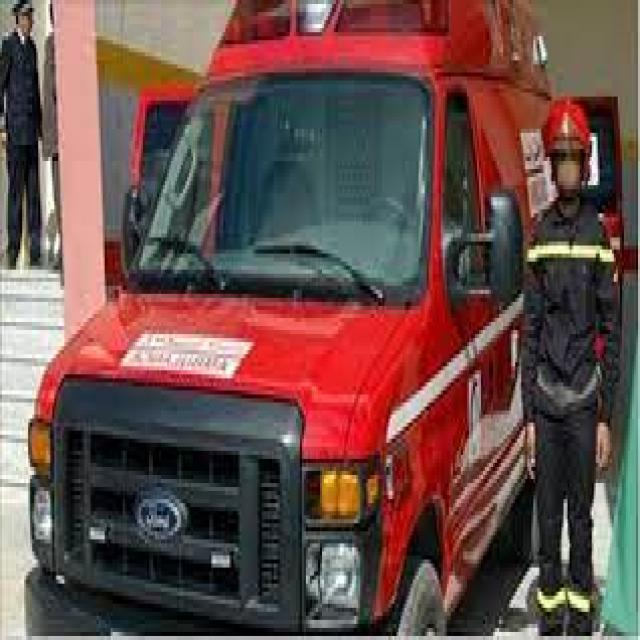ambulance: (32, 5, 536, 636)
